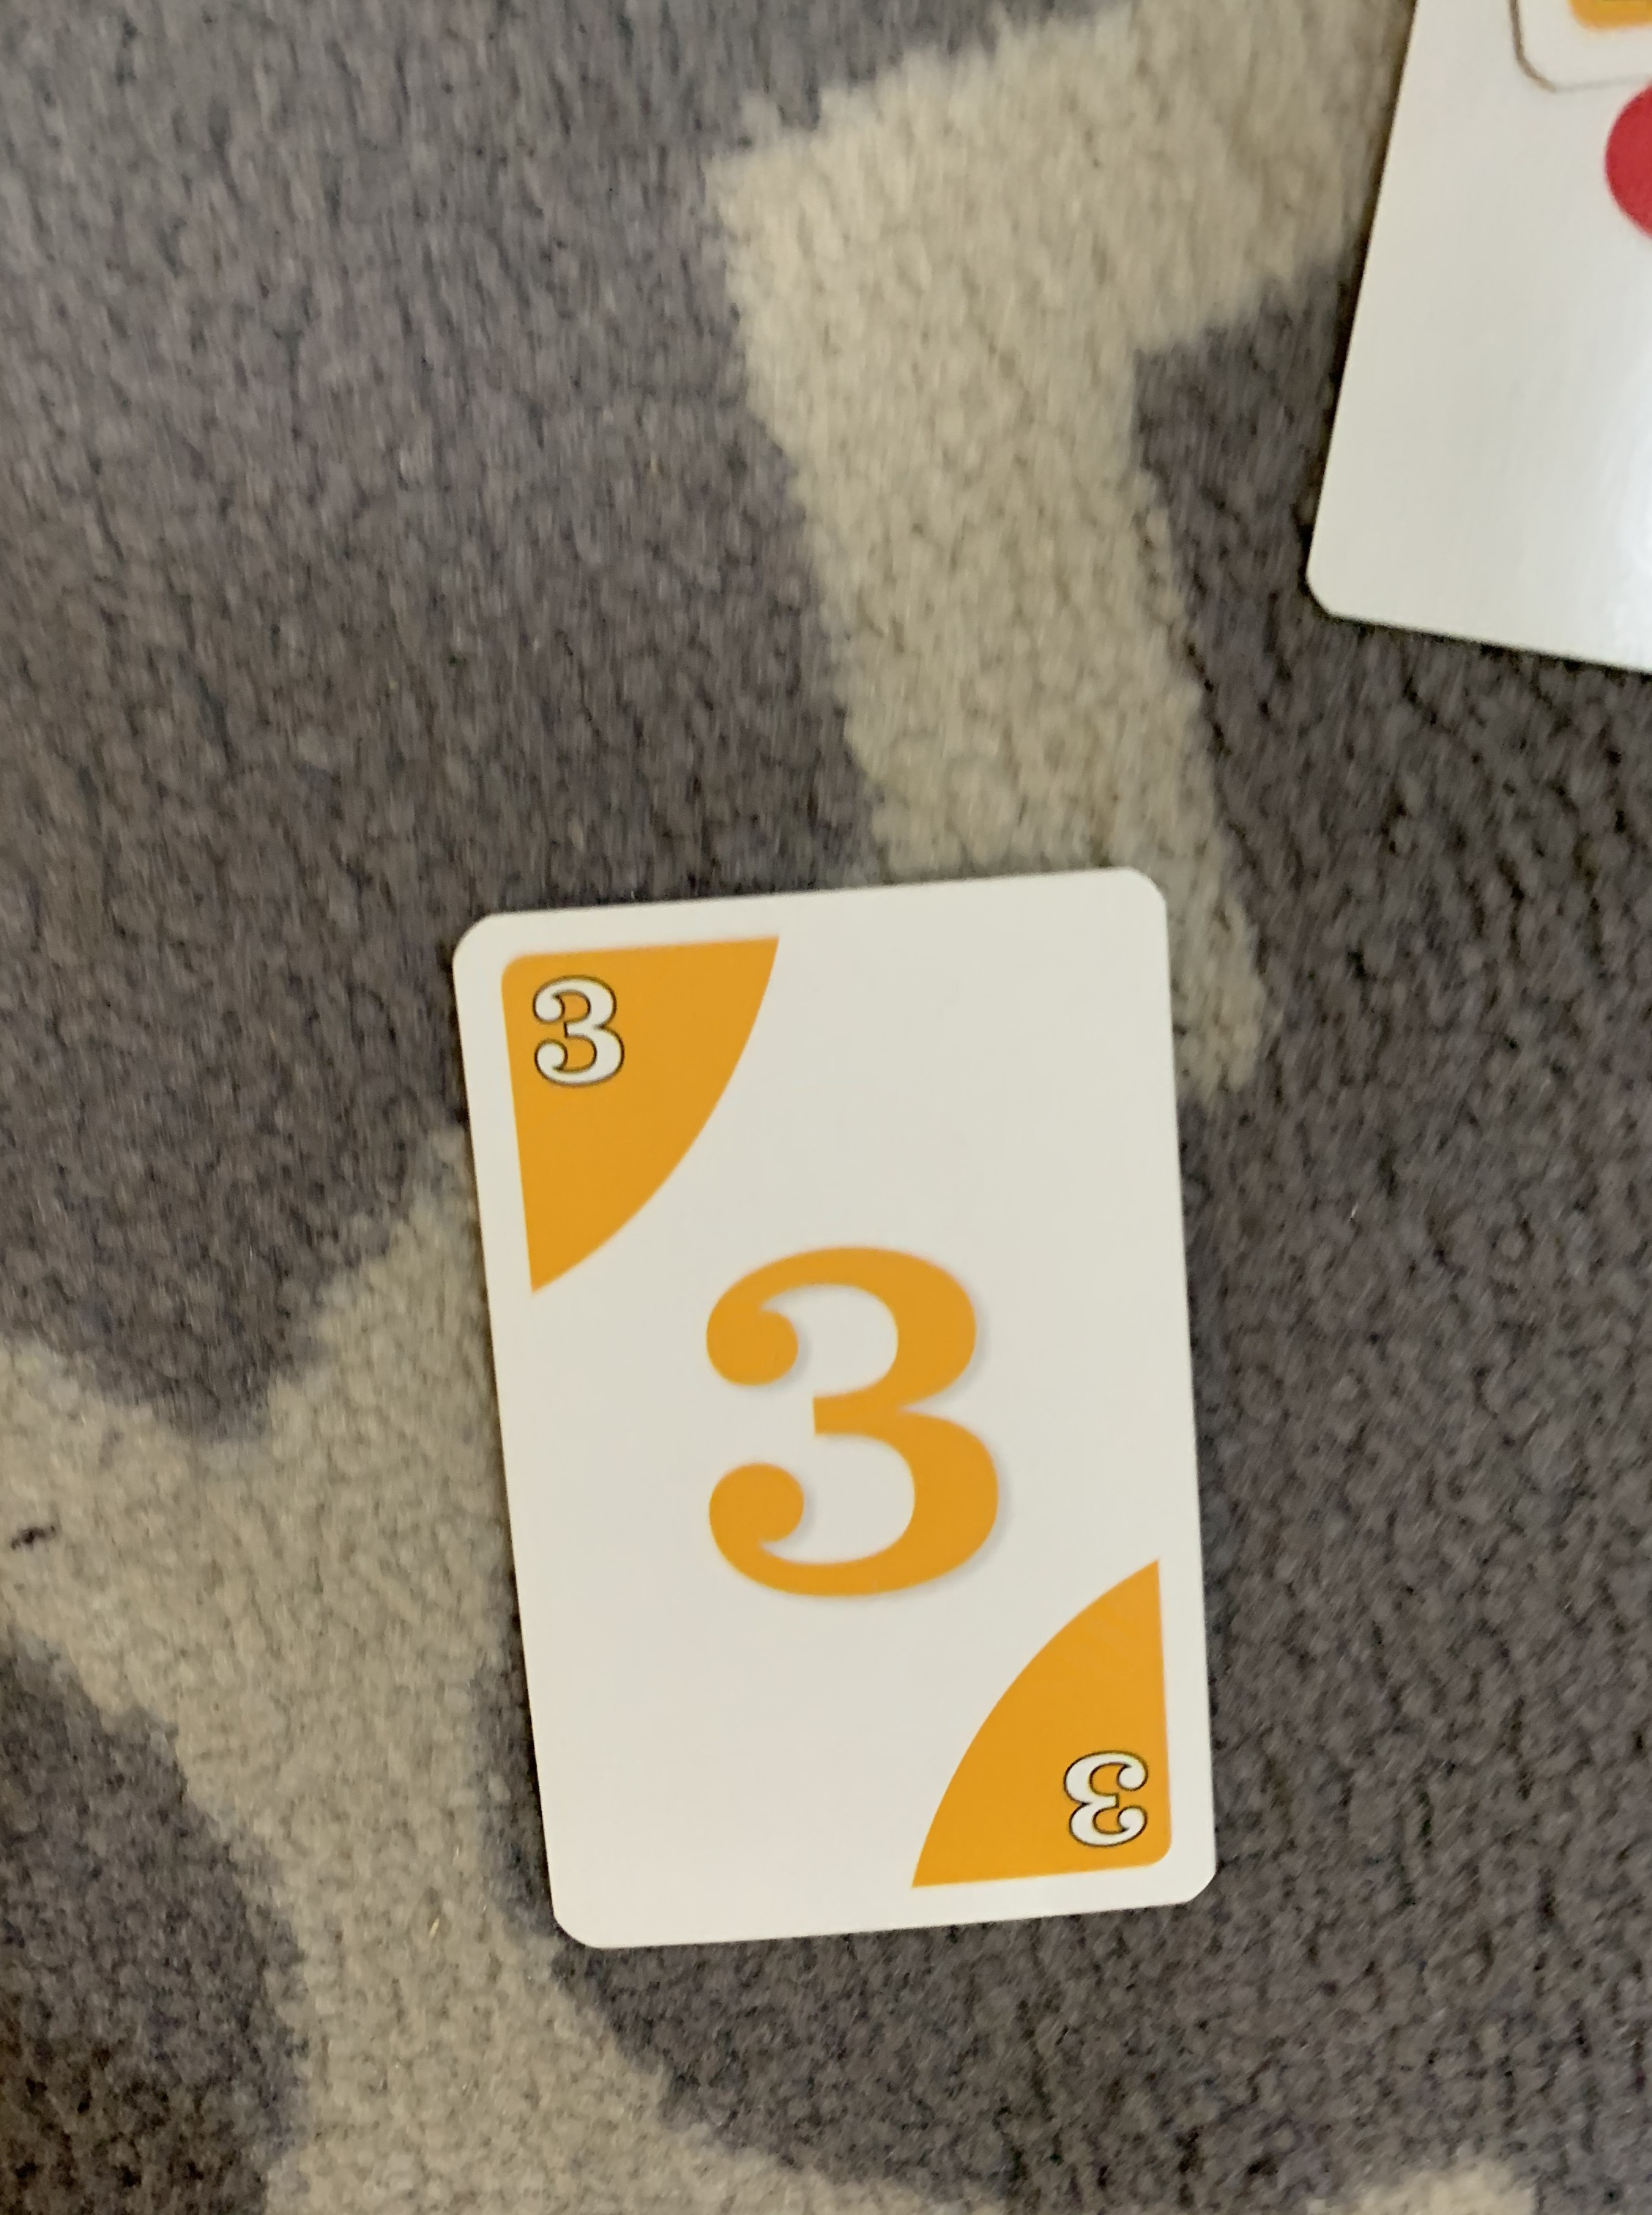three: (432, 852, 1246, 1972)
